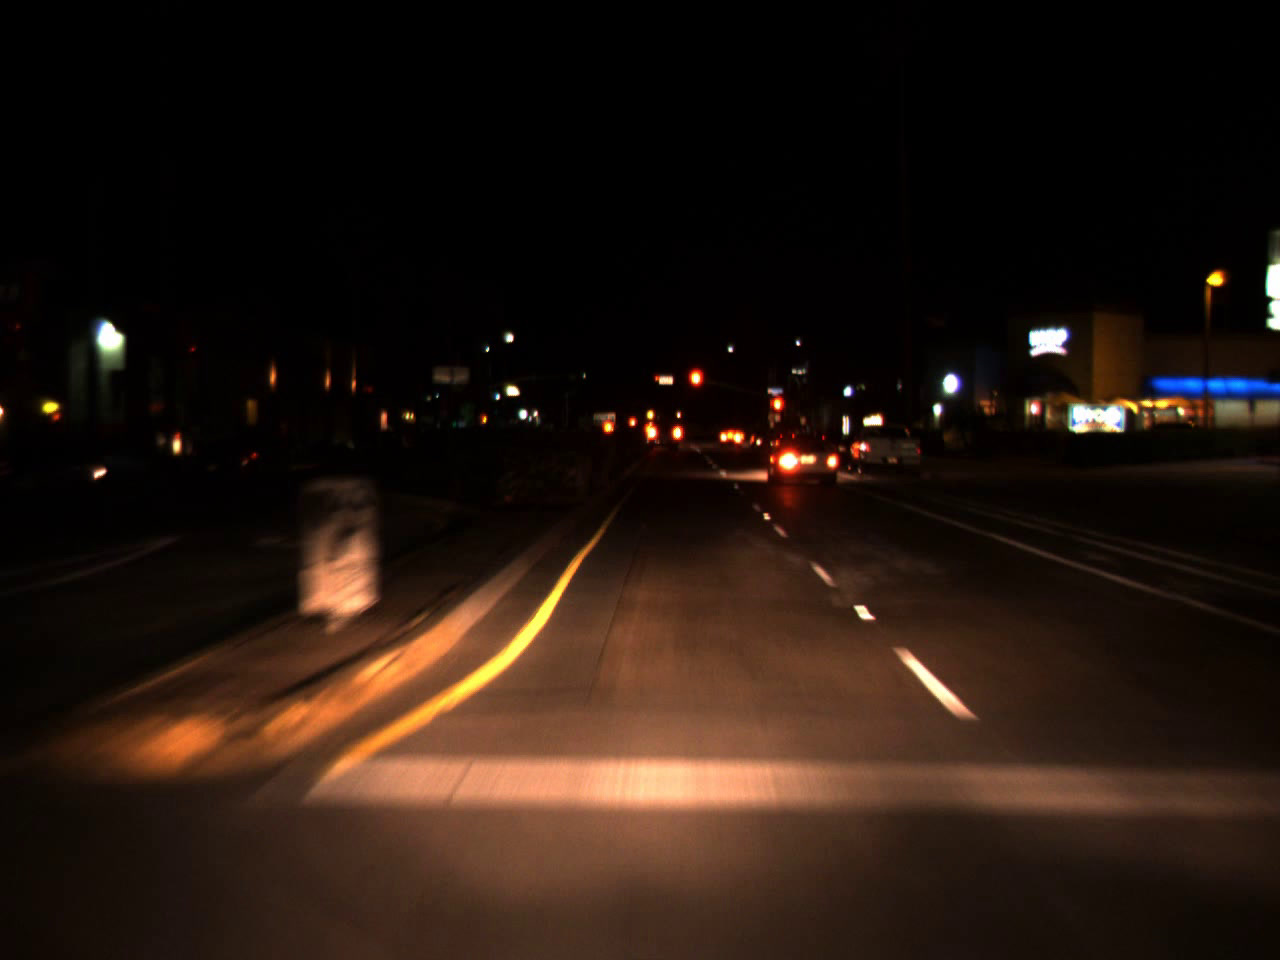stop: (687, 366, 705, 409), (769, 395, 787, 427), (654, 375, 661, 385)
